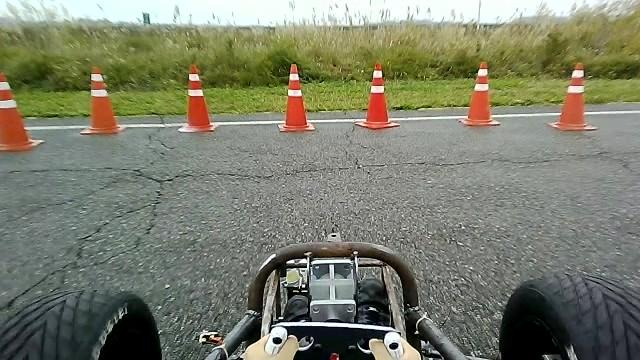red cone: (0, 71, 44, 151), (547, 62, 598, 131), (79, 65, 124, 134), (354, 62, 400, 129), (177, 63, 218, 132), (458, 61, 500, 126), (277, 63, 315, 131)
